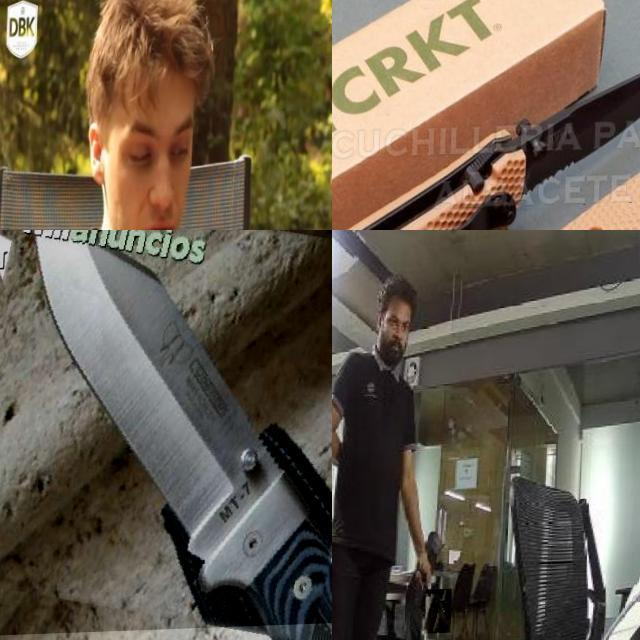-: (0, 230, 332, 637), (524, 38, 640, 194), (429, 591, 456, 636)
